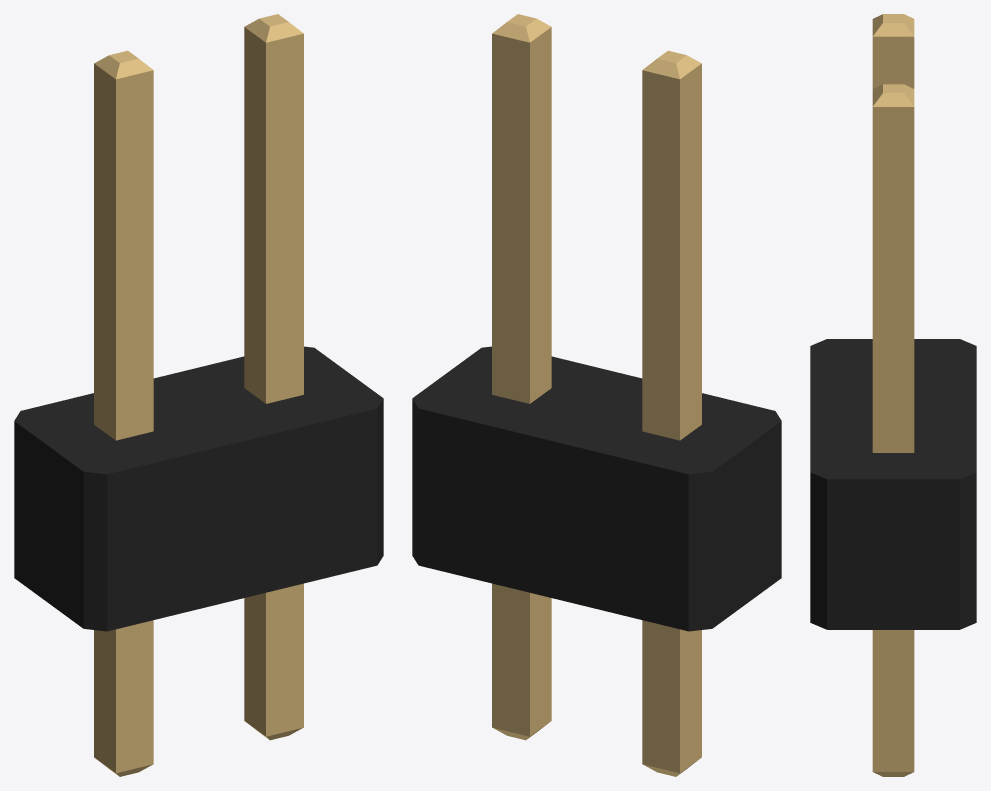
Rendered from PinHeader_2x01_P2.54mm_Vertical.glb.
3 views of the same model, side by side, from view 1: azimuth 30°, elevation 25°; view 2: azimuth 150°, elevation 25°; view 3: azimuth 270°, elevation 25° (orthographic). The views are drawn at different scales.
Parts seen in each view (by area): view 1: =>[0:1:1:3]; view 2: =>[0:1:1:3]; view 3: =>[0:1:1:3].
Part boxes in pixels (left/top/right/bottom): =>[0:1:1:3]: left=14, top=14, right=383, bottom=776; =>[0:1:1:3]: left=412, top=14, right=781, bottom=776; =>[0:1:1:3]: left=810, top=14, right=976, bottom=776.
Size of the model in its own units: 0.00508 by 0.0115 by 0.00254.
